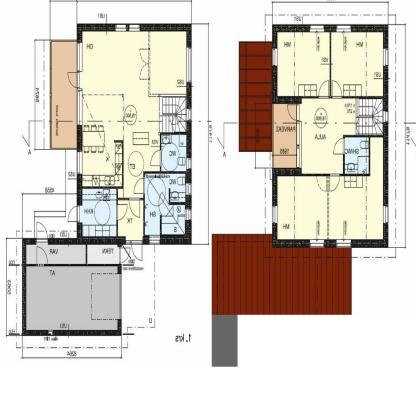window: (138, 47, 151, 80), (66, 206, 84, 226), (37, 219, 50, 246), (158, 192, 173, 215), (116, 246, 132, 267), (314, 172, 328, 195), (185, 47, 193, 86), (129, 197, 142, 220), (76, 90, 84, 126), (333, 134, 346, 156), (36, 246, 48, 269), (132, 174, 145, 194), (328, 173, 340, 194), (149, 147, 161, 167), (131, 239, 143, 259), (319, 78, 329, 100), (331, 78, 342, 96), (76, 42, 82, 71), (287, 103, 299, 117), (310, 238, 324, 249), (337, 239, 351, 250), (149, 234, 161, 246), (67, 73, 79, 85), (116, 206, 128, 218), (382, 49, 390, 66), (185, 181, 192, 199), (114, 22, 126, 32), (130, 22, 140, 34), (382, 205, 388, 225), (336, 25, 350, 33), (311, 23, 323, 32), (184, 210, 192, 220), (274, 48, 278, 68), (184, 108, 190, 121), (383, 110, 388, 124), (186, 158, 190, 170), (47, 330, 53, 335)
zone: (82, 31, 186, 201), (211, 233, 352, 314), (274, 135, 382, 239), (25, 264, 118, 332), (298, 97, 354, 177), (240, 42, 272, 152), (277, 32, 330, 95), (332, 32, 383, 95), (52, 41, 76, 147), (145, 173, 184, 235), (82, 188, 116, 236), (273, 102, 297, 168), (26, 244, 86, 265), (356, 95, 383, 135), (162, 135, 186, 173), (118, 200, 142, 238), (344, 137, 368, 175), (88, 242, 118, 263)
